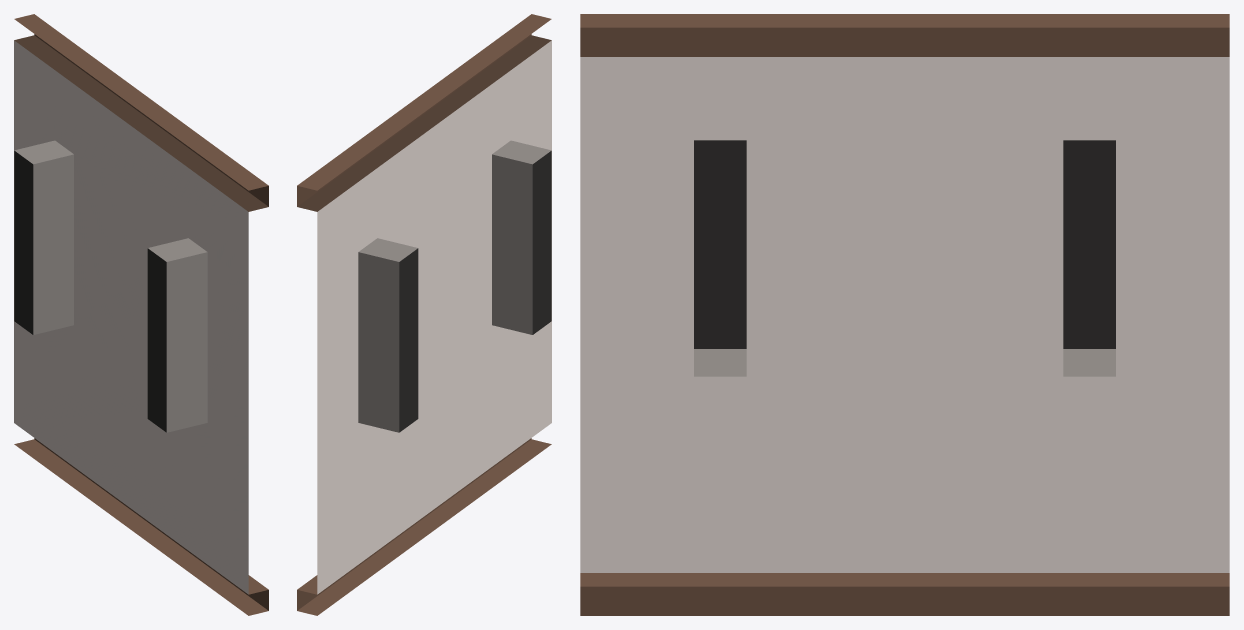
File: basic_wall_012.fbx
3 views of the same model, side by side, from view 1: azimuth 30°, elevation 25°; view 2: azimuth 150°, elevation 25°; view 3: azimuth 270°, elevation 25° (orthographic). The views are drawn at different scales.
Visible parts, largest first — view 1: Base_Wall.012; view 2: Base_Wall.012; view 3: Base_Wall.012.
Boxes of the visible parts, box(x1,y1,x2,y2) form: Base_Wall.012: box(14, 14, 268, 615); Base_Wall.012: box(297, 14, 551, 615); Base_Wall.012: box(580, 14, 1229, 615).
Size of the model in its own units: 200 by 30.12 by 200.
